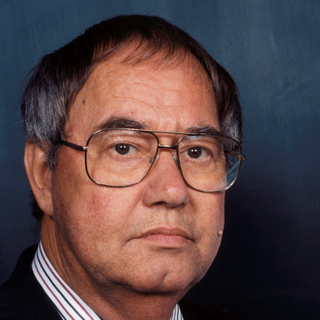eye: (103, 139, 146, 162), (180, 142, 217, 165)
